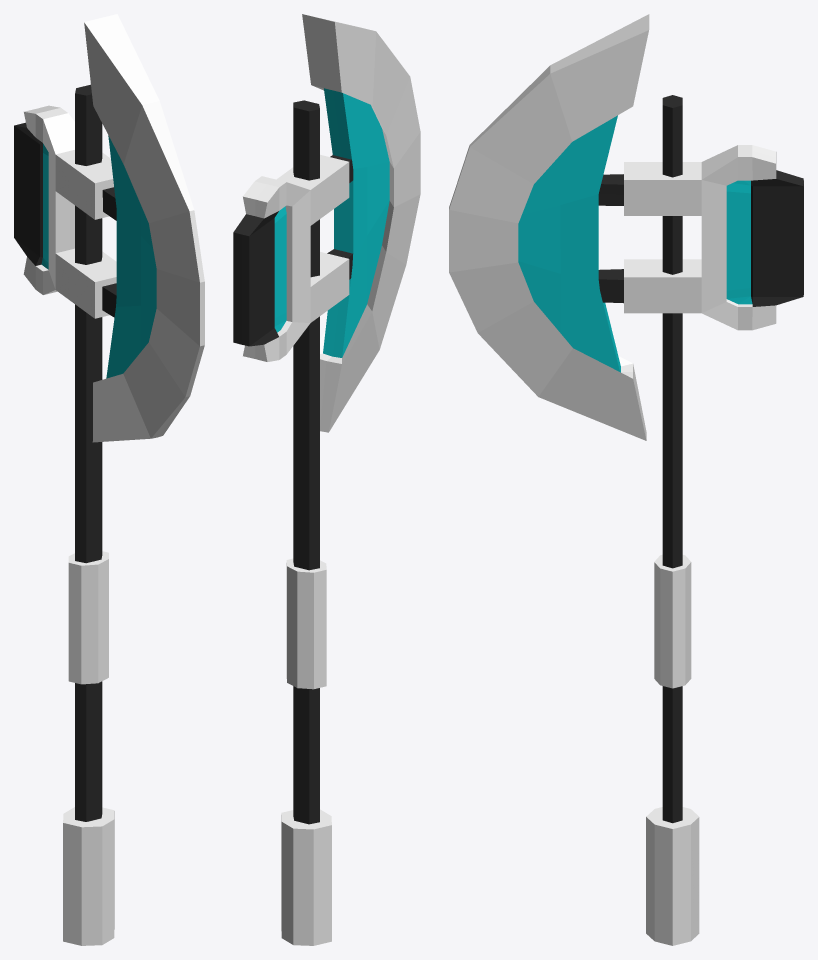
The model's file is megaxe.glb.
The picture shows the model from 3 angles, left to right: view 1: azimuth 30°, elevation 25°; view 2: azimuth 150°, elevation 25°; view 3: azimuth 270°, elevation 25°; orthographic projection.
Parts seen in each view (by area): view 1: megaxe; view 2: megaxe; view 3: megaxe.
Part boxes in pixels (bbox=[...]): megaxe: bbox=[14, 14, 204, 945]; megaxe: bbox=[233, 14, 420, 945]; megaxe: bbox=[449, 14, 803, 945].
Size of the model in its own units: 0.4877 by 8.39 by 2.96.
